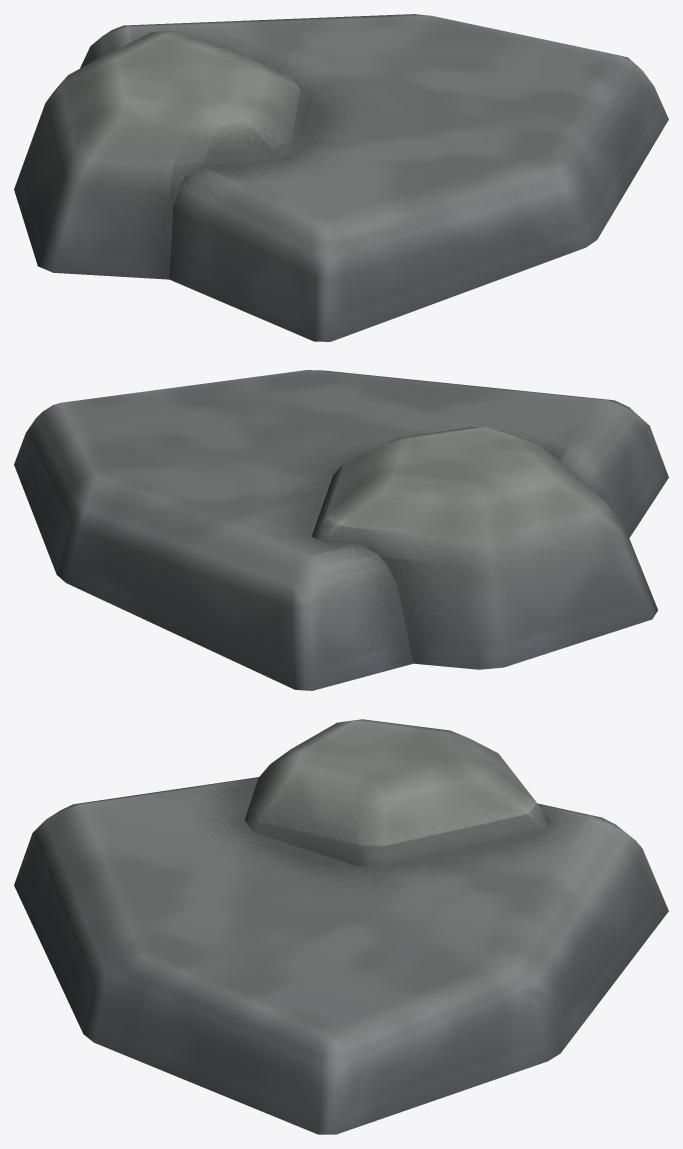
The model's file is slab_3.glb.
3 views of the same model, one above another, from view 1: azimuth 30°, elevation 25°; view 2: azimuth 150°, elevation 25°; view 3: azimuth 270°, elevation 25° (orthographic). The views are drawn at different scales.
Parts seen in each view (by area): view 1: slab_3; view 2: slab_3; view 3: slab_3.
Boxes of the visible parts, x1,y1,x2,y2 form: slab_3: (14,14,668,341); slab_3: (14,370,668,690); slab_3: (14,719,668,1134).
Size of the model in its own units: 1.4 by 0.3 by 1.2.
Materials: 1 (1 with a texture image).
